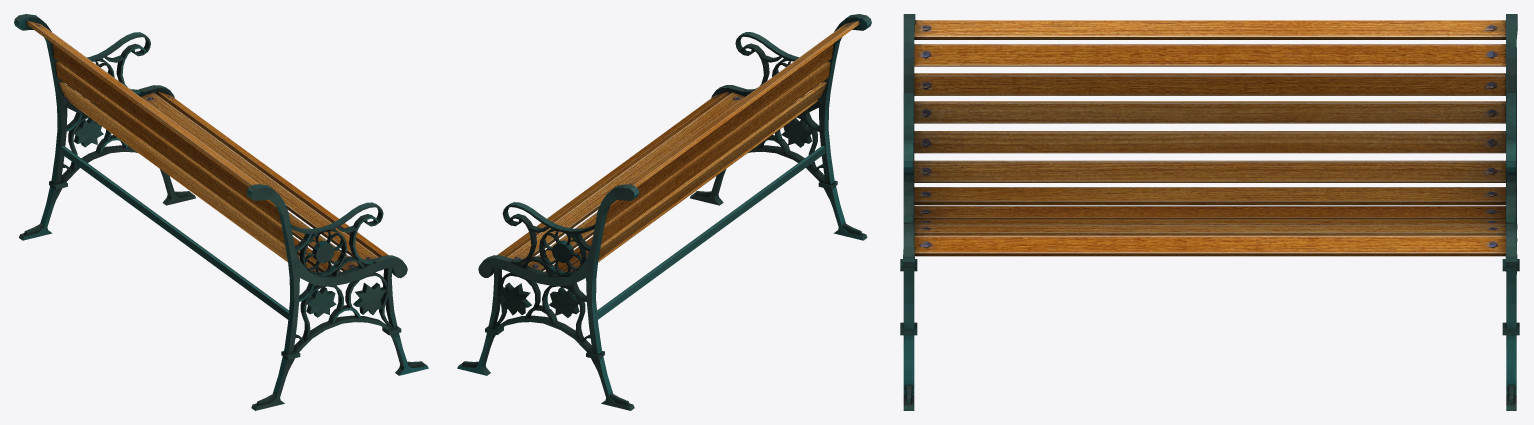
File: Fancy Bench (DR2).obj
3 views of the same model, side by side, from view 1: azimuth 30°, elevation 25°; view 2: azimuth 150°, elevation 25°; view 3: azimuth 270°, elevation 25° (orthographic). The views are drawn at different scales.
Parts seen in each view (by area): view 1: Mesh_0682.rip_Tex_005_Mesh_0682.rip_Tex_005_Tex_0052_0.dds_bench, Mesh_0682.rip_Tex_005_Mesh_0682.rip_Tex_005_Tex_0052_0.dds.004_b, Mesh_0682.rip_Tex_005_Mesh_0682.rip_Tex_005_Tex_0052_0.dds.006_b, Mesh_0682.rip_Tex_005_Mesh_0682.rip_Tex_005_Tex_0052_0.dds.005_b, Mesh_0682.rip_Tex_005_Mesh_0682.rip_Tex_005_Tex_0052_0.dds.001_b, Mesh_0682.rip_Tex_005_Mesh_0682.rip_Tex_005_Tex_0052_0.dds.003_b, Mesh_0682.rip_Tex_005_Mesh_0682.rip_Tex_005_Tex_0052_0.dds.002_b; view 2: Mesh_0682.rip_Tex_005_Mesh_0682.rip_Tex_005_Tex_0052_0.dds_bench, Mesh_0682.rip_Tex_005_Mesh_0682.rip_Tex_005_Tex_0052_0.dds.004_b, Mesh_0682.rip_Tex_005_Mesh_0682.rip_Tex_005_Tex_0052_0.dds.006_b, Mesh_0682.rip_Tex_005_Mesh_0682.rip_Tex_005_Tex_0052_0.dds.005_b, Mesh_0682.rip_Tex_005_Mesh_0682.rip_Tex_005_Tex_0052_0.dds.003_b, Mesh_0682.rip_Tex_005_Mesh_0682.rip_Tex_005_Tex_0052_0.dds.001_b, Mesh_0682.rip_Tex_005_Mesh_0682.rip_Tex_005_Tex_0052_0.dds.002_b; view 3: Mesh_0682.rip_Tex_005_Mesh_0682.rip_Tex_005_Tex_0052_0.dds_bench, Mesh_0682.rip_Tex_005_Mesh_0682.rip_Tex_005_Tex_0052_0.dds.006_b, Mesh_0682.rip_Tex_005_Mesh_0682.rip_Tex_005_Tex_0052_0.dds.005_b, Mesh_0682.rip_Tex_005_Mesh_0682.rip_Tex_005_Tex_0052_0.dds.002_b, Mesh_0682.rip_Tex_005_Mesh_0682.rip_Tex_005_Tex_0052_0.dds.003_b, Mesh_0682.rip_Tex_005_Mesh_0682.rip_Tex_005_Tex_0052_0.dds.004_b, Mesh_0682.rip_Tex_005_Mesh_0682.rip_Tex_005_Tex_0052_0.dds.001_b.
Part boxes in pixels (x1=…): Mesh_0682.rip_Tex_005_Mesh_0682.rip_Tex_005_Tex_0052_0.dds_bench: x1=14, y1=14, x2=428, y2=410; Mesh_0682.rip_Tex_005_Mesh_0682.rip_Tex_005_Tex_0052_0.dds.004_b: x1=141, y1=92, x2=378, y2=263; Mesh_0682.rip_Tex_005_Mesh_0682.rip_Tex_005_Tex_0052_0.dds.006_b: x1=26, y1=20, x2=258, y2=187; Mesh_0682.rip_Tex_005_Mesh_0682.rip_Tex_005_Tex_0052_0.dds.005_b: x1=106, y1=117, x2=287, y2=259; Mesh_0682.rip_Tex_005_Mesh_0682.rip_Tex_005_Tex_0052_0.dds.001_b: x1=156, y1=91, x2=277, y2=178; Mesh_0682.rip_Tex_005_Mesh_0682.rip_Tex_005_Tex_0052_0.dds.003_b: x1=266, y1=170, x2=388, y2=257; Mesh_0682.rip_Tex_005_Mesh_0682.rip_Tex_005_Tex_0052_0.dds.002_b: x1=151, y1=162, x2=287, y2=262; Mesh_0682.rip_Tex_005_Mesh_0682.rip_Tex_005_Tex_0052_0.dds_bench: x1=457, y1=14, x2=871, y2=410; Mesh_0682.rip_Tex_005_Mesh_0682.rip_Tex_005_Tex_0052_0.dds.004_b: x1=507, y1=92, x2=745, y2=263; Mesh_0682.rip_Tex_005_Mesh_0682.rip_Tex_005_Tex_0052_0.dds.006_b: x1=627, y1=20, x2=859, y2=187; Mesh_0682.rip_Tex_005_Mesh_0682.rip_Tex_005_Tex_0052_0.dds.005_b: x1=646, y1=81, x2=826, y2=222; Mesh_0682.rip_Tex_005_Mesh_0682.rip_Tex_005_Tex_0052_0.dds.003_b: x1=589, y1=91, x2=729, y2=187; Mesh_0682.rip_Tex_005_Mesh_0682.rip_Tex_005_Tex_0052_0.dds.001_b: x1=497, y1=171, x2=618, y2=257; Mesh_0682.rip_Tex_005_Mesh_0682.rip_Tex_005_Tex_0052_0.dds.002_b: x1=669, y1=99, x2=818, y2=210; Mesh_0682.rip_Tex_005_Mesh_0682.rip_Tex_005_Tex_0052_0.dds_bench: x1=900, y1=14, x2=1519, y2=410; Mesh_0682.rip_Tex_005_Mesh_0682.rip_Tex_005_Tex_0052_0.dds.006_b: x1=914, y1=20, x2=1505, y2=39; Mesh_0682.rip_Tex_005_Mesh_0682.rip_Tex_005_Tex_0052_0.dds.005_b: x1=914, y1=131, x2=1383, y2=153; Mesh_0682.rip_Tex_005_Mesh_0682.rip_Tex_005_Tex_0052_0.dds.002_b: x1=914, y1=160, x2=1278, y2=182; Mesh_0682.rip_Tex_005_Mesh_0682.rip_Tex_005_Tex_0052_0.dds.003_b: x1=914, y1=235, x2=1243, y2=256; Mesh_0682.rip_Tex_005_Mesh_0682.rip_Tex_005_Tex_0052_0.dds.004_b: x1=914, y1=225, x2=1505, y2=235; Mesh_0682.rip_Tex_005_Mesh_0682.rip_Tex_005_Tex_0052_0.dds.001_b: x1=1196, y1=235, x2=1505, y2=256.
Bounding box in the file's own units: 0.778 × 0.927 × 1.81.
